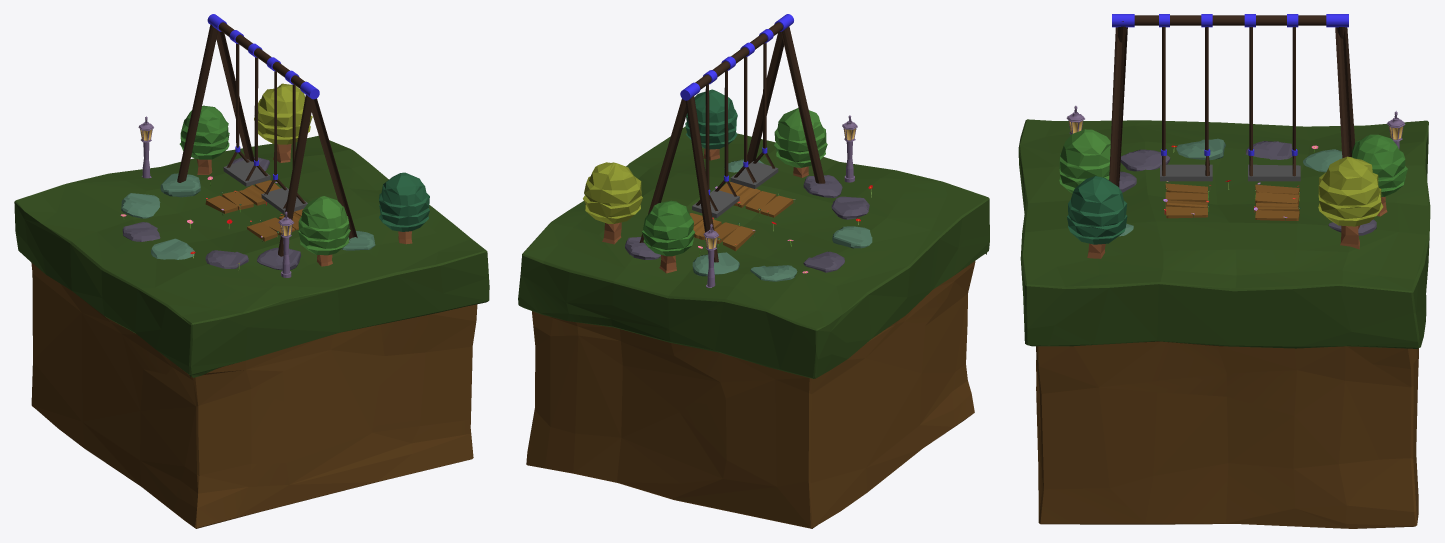
File: tile_swings.min.gltf
The picture shows the model from 3 angles, left to right: view 1: azimuth 30°, elevation 25°; view 2: azimuth 150°, elevation 25°; view 3: azimuth 270°, elevation 25°; orthographic projection. The views are drawn at different scales.
Parts seen in each view (by area): view 1: CENTERED.004, Cylinder.011, Circle.001, Circle.002, Circle.004, Circle, Cylinder.031, Cylinder.034, Box001.015, Box001.014, Box001.017, Box001.018 (+3 smaller); view 2: CENTERED.004, Cylinder.011, Circle.004, Circle, Circle.001, Circle.002, Cylinder.034, Cylinder.031, Box001.014, Box001.017, Box001.018, Box001.012 (+3 smaller); view 3: CENTERED.004, Cylinder.011, Circle.004, Circle.002, Circle.001, Circle, Cylinder.034, Cylinder.031, Box001.018, Box001.017, Box001.016, Cylinder.032 (+1 smaller).
Part boxes in pixels (x1,y1,x2,y2): CENTERED.004: (14, 135, 489, 528); Cylinder.011: (177, 14, 357, 256); Circle.001: (298, 196, 350, 266); Circle.002: (379, 172, 429, 244); Circle.004: (254, 83, 312, 162); Circle: (179, 105, 229, 174); Cylinder.031: (223, 43, 270, 186); Cylinder.034: (261, 71, 307, 214); Box001.015: (121, 193, 160, 218); Box001.014: (160, 173, 200, 197); Box001.017: (151, 238, 194, 259); Box001.018: (205, 250, 248, 268); CENTERED.004: (518, 126, 989, 528); Cylinder.011: (639, 14, 825, 262); Circle.004: (583, 162, 642, 244); Circle: (642, 200, 694, 273); Circle.001: (774, 108, 827, 177); Circle.002: (685, 89, 737, 160); Cylinder.034: (730, 43, 778, 188); Cylinder.031: (692, 70, 739, 218); Box001.014: (692, 252, 739, 276); Box001.017: (832, 226, 872, 248); Box001.018: (831, 196, 869, 219); Box001.012: (803, 175, 842, 197); CENTERED.004: (1018, 119, 1430, 528); Cylinder.011: (1109, 14, 1354, 220); Circle.004: (1318, 156, 1383, 249); Circle.002: (1067, 176, 1127, 258); Circle.001: (1059, 129, 1110, 193); Circle: (1351, 134, 1407, 216); Cylinder.034: (1160, 27, 1212, 181); Cylinder.031: (1248, 27, 1300, 181); Box001.018: (1120, 149, 1170, 171); Box001.017: (1176, 138, 1225, 160); Box001.016: (1245, 141, 1292, 159); Cylinder.032: (1159, 14, 1298, 27).
Bounding box in the file's own units: 1.07 × 1.29 × 1.09.
